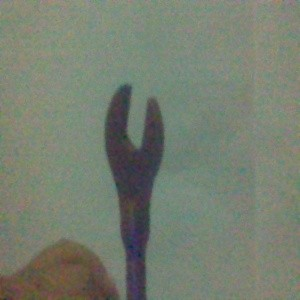spanner: (103, 83, 166, 300)
